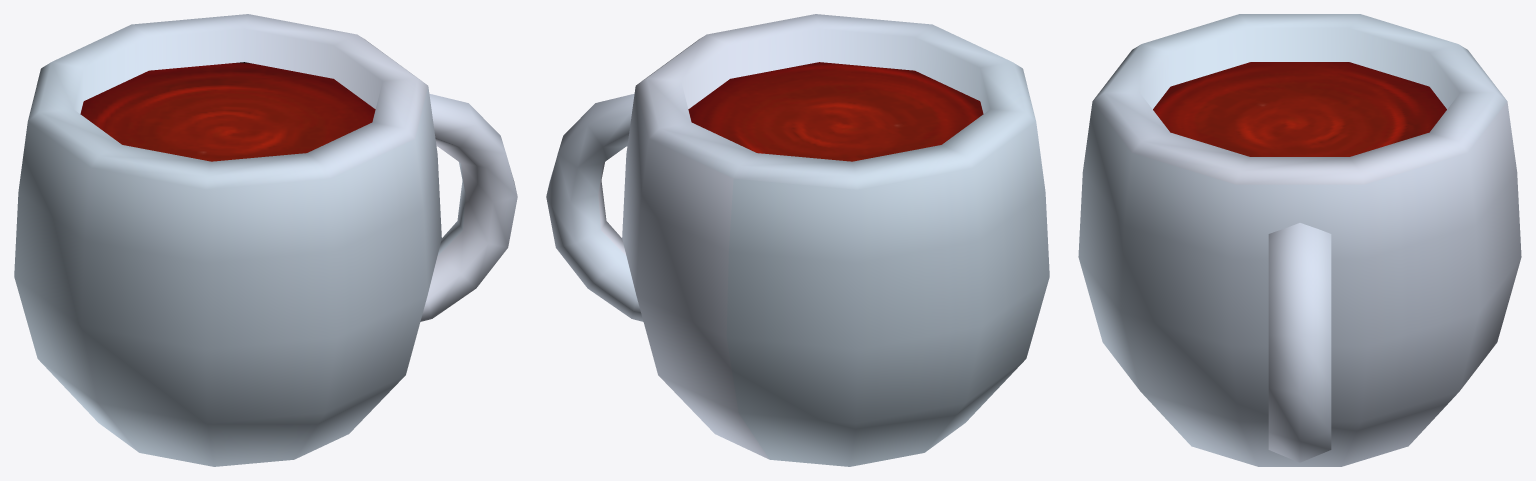
Rendered from coffee_cup_C.glb.
3 renders of one model, left to right at view 1: azimuth 30°, elevation 25°; view 2: azimuth 150°, elevation 25°; view 3: azimuth 270°, elevation 25°, orthographic.
Parts seen in each view (by area): view 1: coffee_cup_C; view 2: coffee_cup_C; view 3: coffee_cup_C.
Boxes of the visible parts, <box> form: coffee_cup_C: <box>14,14,517,466</box>; coffee_cup_C: <box>546,14,1049,466</box>; coffee_cup_C: <box>1078,14,1521,466</box>.
Bounding box in the file's own units: 0.3652 × 0.2364 × 0.2964.
1 material, 1 textured.
